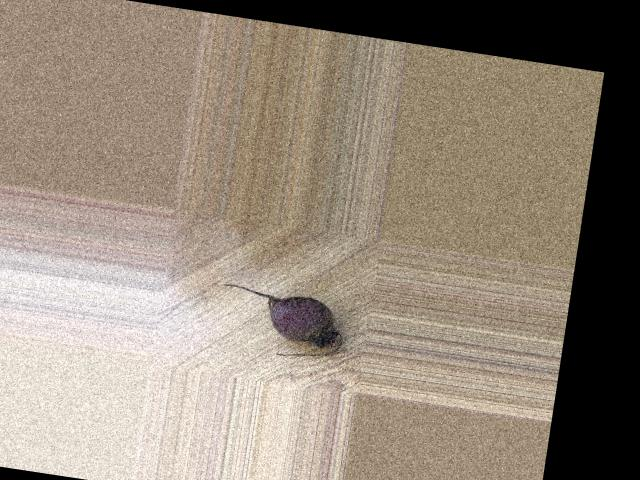beet: (213, 282, 347, 363)
